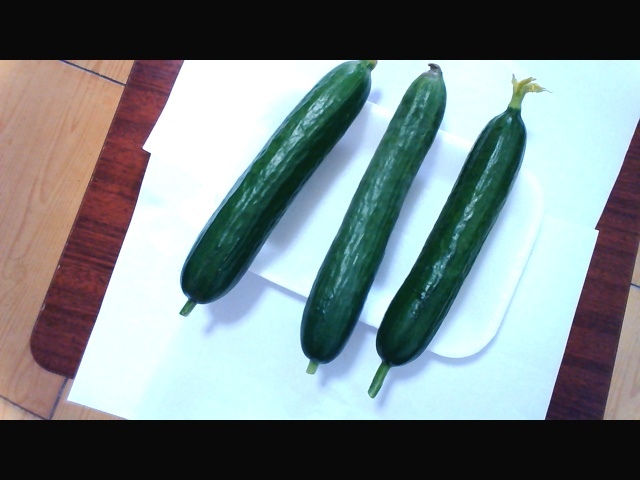cucumber: (303, 84, 547, 397), (179, 67, 313, 319)
